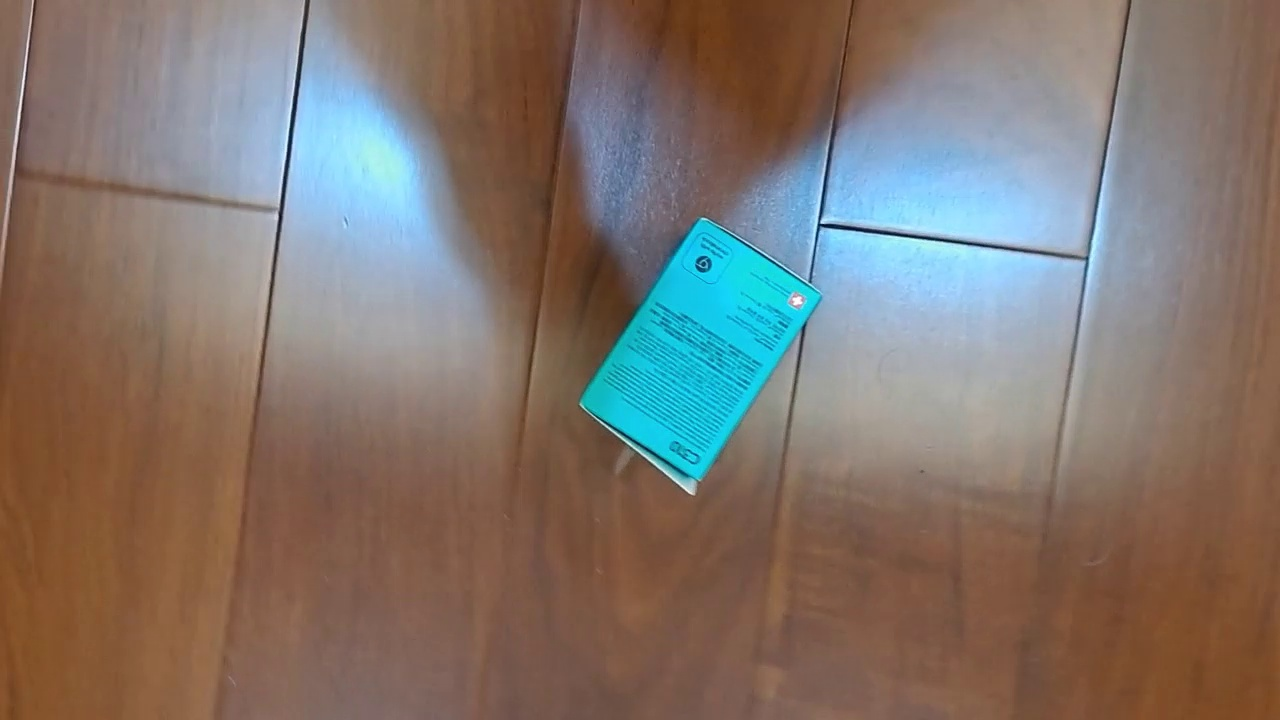webcam: (577, 216, 824, 498)
